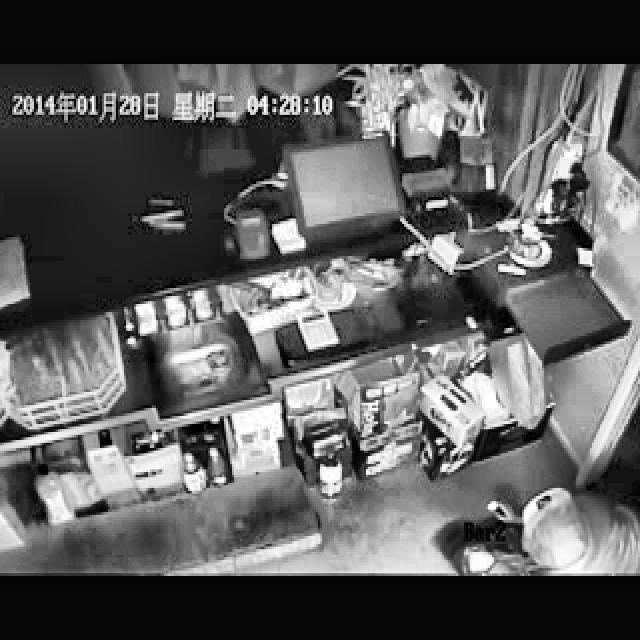burglary: (429, 479, 640, 574)
